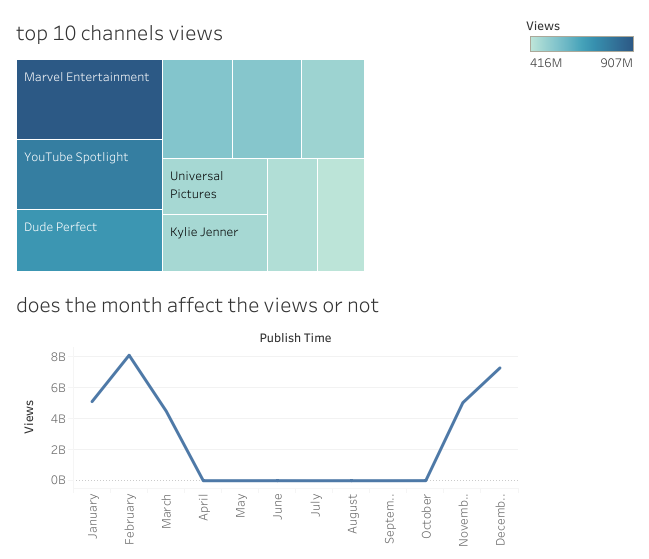

What the dashboard file says about the page in this screenshot:
{"tool":"tableau","page":{"name":"Dashboard 1","canvas":[650,860],"ordinal":0},"visuals":[{"type":"worksheet","title":"Sheet 1","mark":"Automatic","box":[8,11.6,514,418.4]},{"type":"legend","title":"Sheet 1","param":"[federated.0plv15v1kypbn816uv3ss0lc5cvb].[sum:views:qk]","box":[522,11.6,120,94.3]},{"type":"worksheet","title":"Sheet 2","mark":"Automatic","rows":["views"],"cols":["publish_time"],"box":[8,430,514,418.4]}]}

Visuals, with their boxes on the page's 650x860 design canvas (x1, y1, x2, y2). These are canvas units, not pixel positions in the 649x559 screenshot, which may show the page scaled, cropped or inside an application window:
"Sheet 1" worksheet: crop(8, 12, 522, 430)
"Sheet 1" legend: crop(522, 12, 642, 106)
"Sheet 2" worksheet: crop(8, 430, 522, 848)
